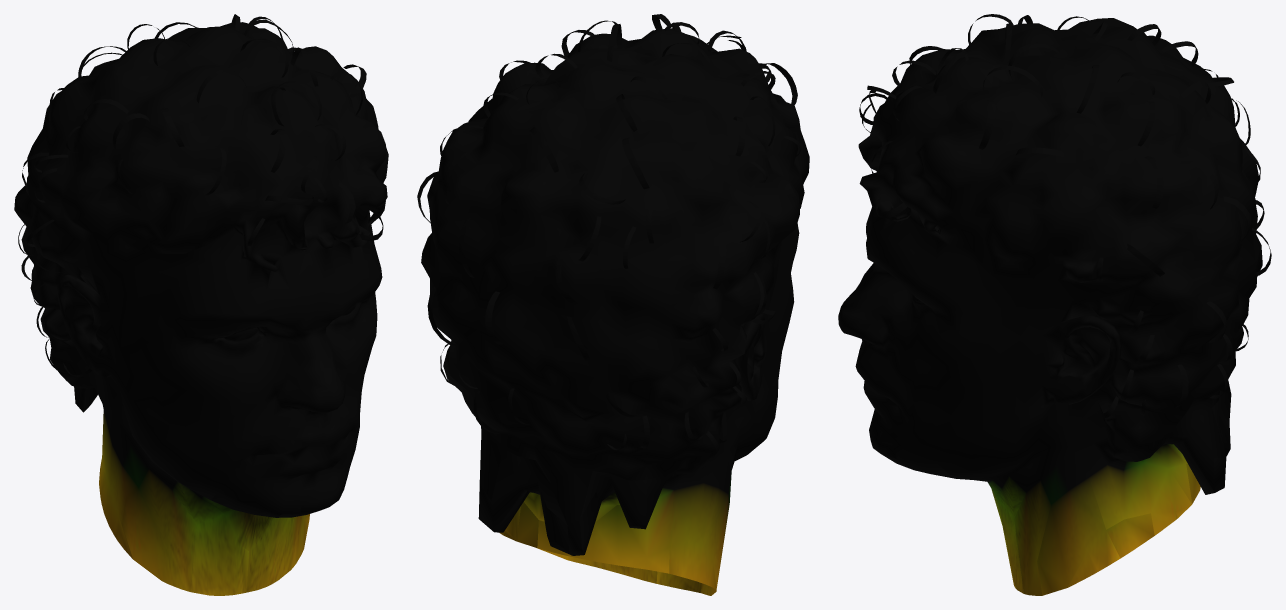
The model's file is MEL_4.glb.
3 renders of one model, left to right at view 1: azimuth 30°, elevation 25°; view 2: azimuth 150°, elevation 25°; view 3: azimuth 270°, elevation 25°, orthographic. The views are drawn at different scales.
Parts seen in each view (by area): view 1: tripo_node_a68ec594-76d9-41ea-ae60-a0a0e99e37ba; view 2: tripo_node_a68ec594-76d9-41ea-ae60-a0a0e99e37ba; view 3: tripo_node_a68ec594-76d9-41ea-ae60-a0a0e99e37ba.
Boxes of the visible parts, x1,y1,x2,y2 form: tripo_node_a68ec594-76d9-41ea-ae60-a0a0e99e37ba: (14,14,388,595); tripo_node_a68ec594-76d9-41ea-ae60-a0a0e99e37ba: (417,14,809,595); tripo_node_a68ec594-76d9-41ea-ae60-a0a0e99e37ba: (838,14,1271,595).
Size of the model in its own units: 0.2301 by 0.3554 by 0.2555.
1 material, 1 textured.
